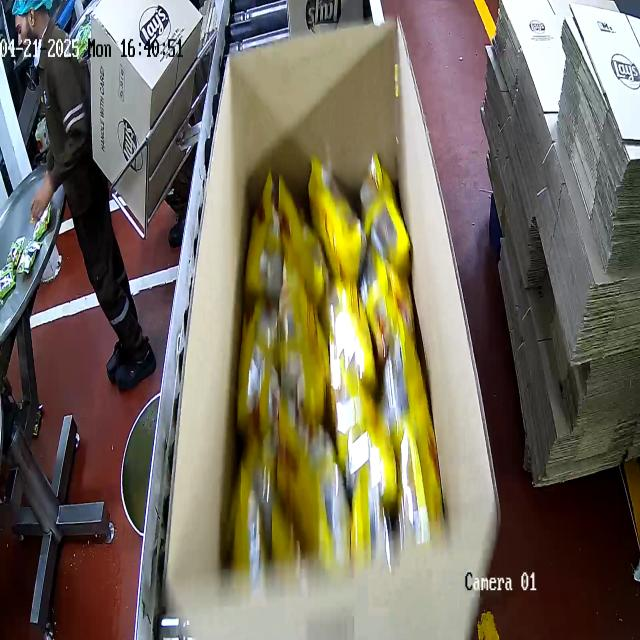SALTED: (228, 150, 420, 560)
